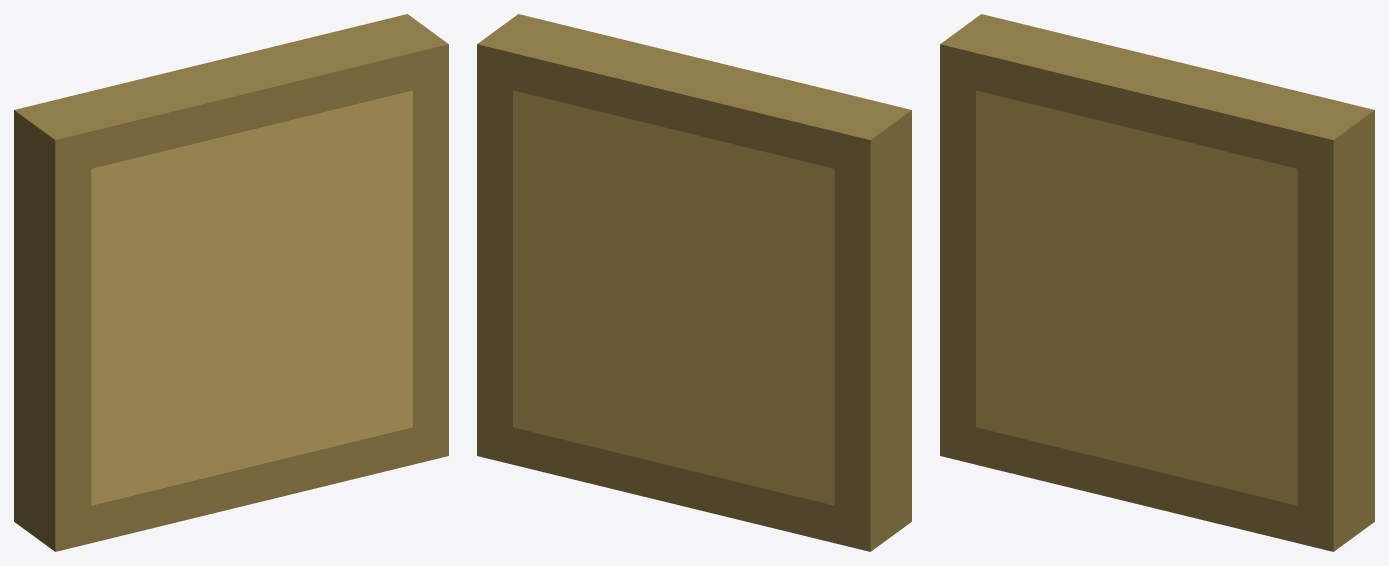
The model's file is farol_mercado_nocturno_01.glb.
3 renders of one model, left to right at view 1: azimuth 30°, elevation 25°; view 2: azimuth 150°, elevation 25°; view 3: azimuth 330°, elevation 25°, orthographic.
Parts seen in each view (by area): view 1: farol_mercado_nocturno; view 2: farol_mercado_nocturno; view 3: farol_mercado_nocturno.
Boxes of the visible parts, x1,y1,x2,y2 form: farol_mercado_nocturno: (14, 14, 448, 551); farol_mercado_nocturno: (477, 14, 911, 551); farol_mercado_nocturno: (940, 14, 1374, 551).
Bounding box in the file's own units: 1 × 1 × 0.1818.
